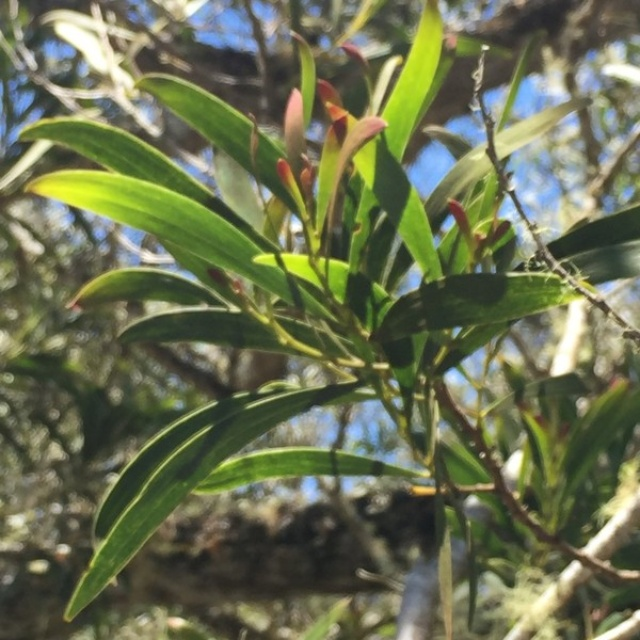obstacle: (92, 78, 633, 602)
